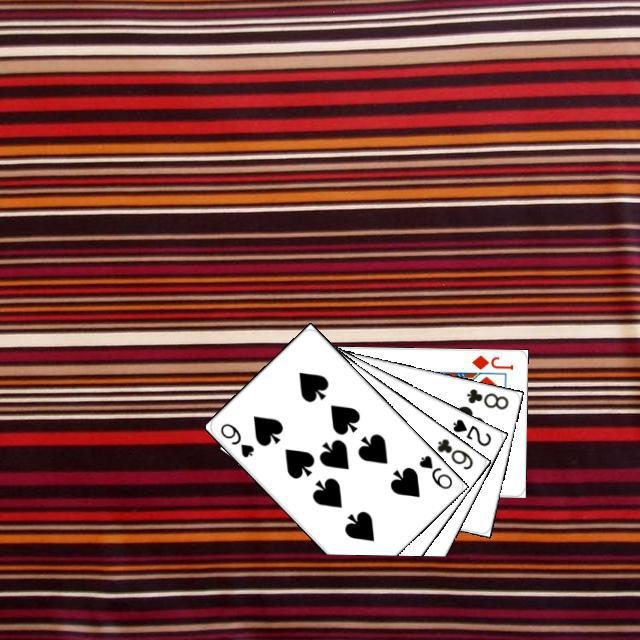2s: (448, 414, 493, 448)
6c: (432, 434, 475, 472)
8c: (461, 384, 510, 411)
9s: (215, 418, 256, 459), (414, 450, 454, 491)
Jd: (467, 350, 515, 372)
